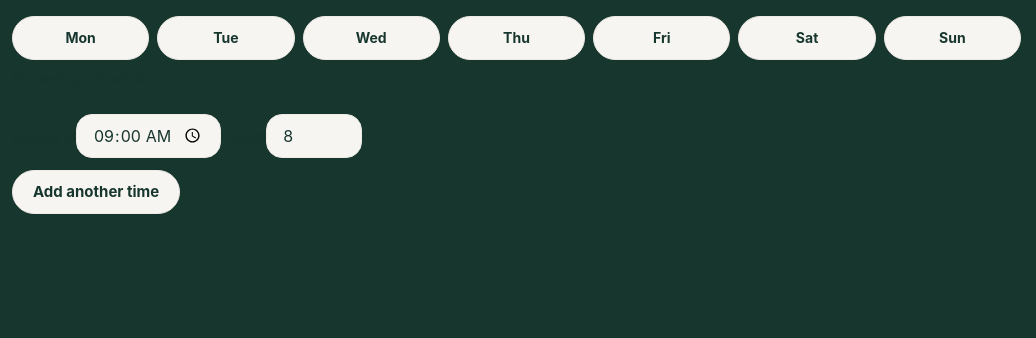
a schedule that has been changed › counts a ticked day, and unticking it again, as a change and then none
Click the button with aria-label "Monday" at (81, 38), box [12,16,149,60]
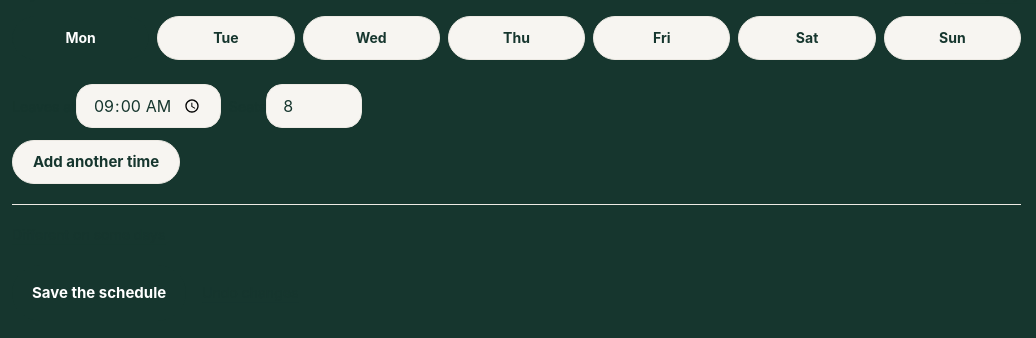
Now the button "Save the schedule" is shown, box [12,265,186,321]
Click the button with aria-label "Monday" at (81, 38), box [12,16,149,60]
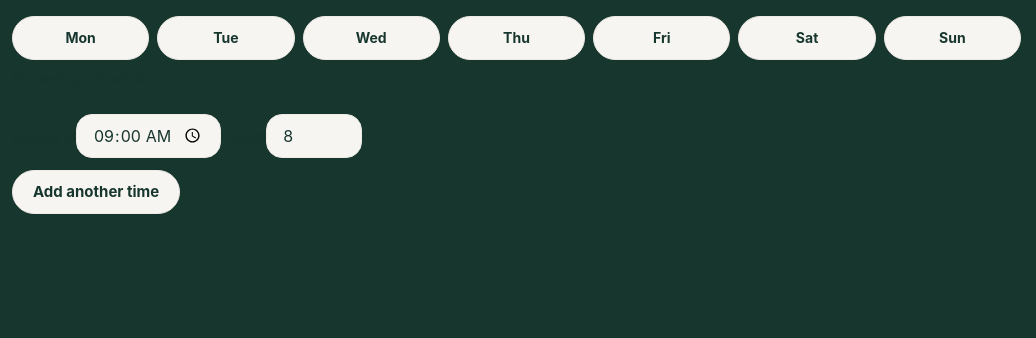
Now the button "Save the schedule" is gone
